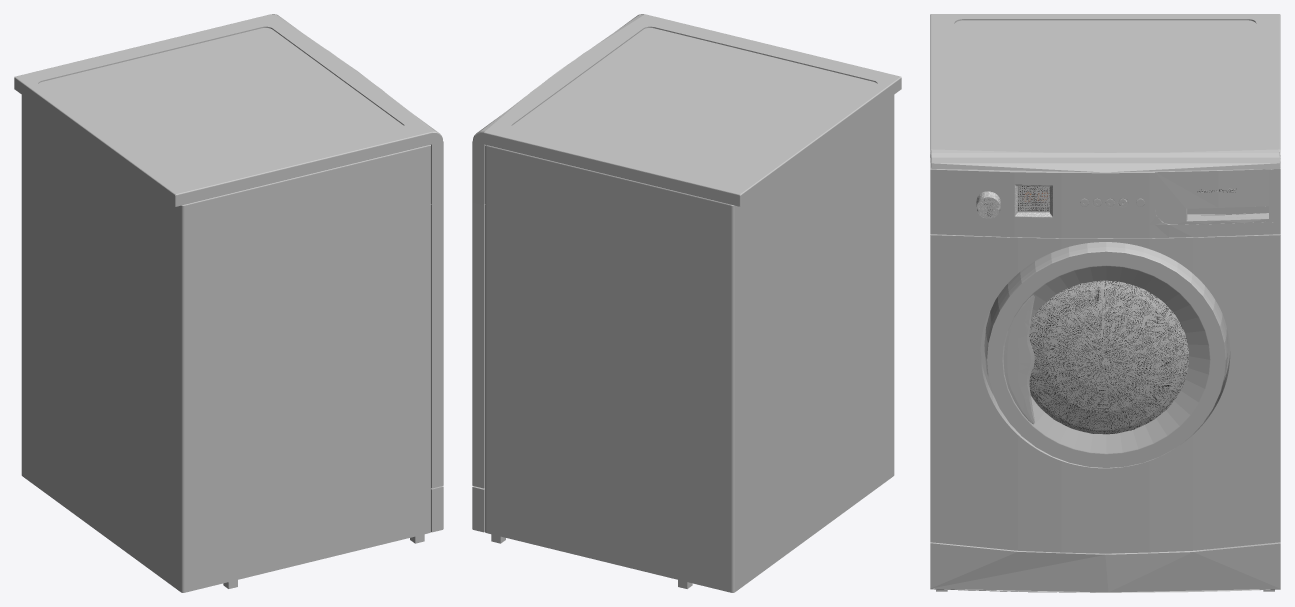
3 views of the same model, side by side, from view 1: azimuth 30°, elevation 25°; view 2: azimuth 150°, elevation 25°; view 3: azimuth 270°, elevation 25° (orthographic). The views are drawn at different scales.
Parts seen in each view (by area): view 1: mesh35.002_mesh35-geometry, mesh21.002_mesh21-geometry, mesh2.002_mesh2-geometry, mesh3.002_mesh3-geometry, mesh36.002_mesh36-geometry; view 2: mesh35.002_mesh35-geometry, mesh21.002_mesh21-geometry, mesh2.002_mesh2-geometry, mesh41.002_mesh41-geometry, mesh36.002_mesh36-geometry; view 3: mesh2.002_mesh2-geometry, mesh21.002_mesh21-geometry, mesh1.002_mesh1-geometry, mesh20.002_mesh20-geometry, mesh3.002_mesh3-geometry, mesh36.002_mesh36-geometry, mesh43.002_mesh43-geometry, mesh41.002_mesh41-geometry, mesh15.002_mesh15-geometry, mesh4.002_mesh4-geometry, mesh12.002_mesh12-geometry, mesh35.002_mesh35-geometry.
Part boxes in pixels (x1,y1,x2,y2): mesh35.002_mesh35-geometry: (21,95,430,592); mesh21.002_mesh21-geometry: (14,14,442,206); mesh2.002_mesh2-geometry: (431,202,443,488); mesh3.002_mesh3-geometry: (430,142,443,204); mesh36.002_mesh36-geometry: (431,486,443,532); mesh35.002_mesh35-geometry: (485,95,894,592); mesh21.002_mesh21-geometry: (473,14,901,206); mesh2.002_mesh2-geometry: (472,202,484,488); mesh41.002_mesh41-geometry: (472,141,484,205); mesh36.002_mesh36-geometry: (472,486,484,532); mesh2.002_mesh2-geometry: (930,234,1280,553); mesh21.002_mesh21-geometry: (930,14,1280,172); mesh1.002_mesh1-geometry: (984,242,1228,467); mesh20.002_mesh20-geometry: (1029,280,1188,434); mesh3.002_mesh3-geometry: (930,169,1280,238); mesh36.002_mesh36-geometry: (930,542,1280,592); mesh43.002_mesh43-geometry: (931,149,1279,172); mesh41.002_mesh41-geometry: (930,168,1280,224); mesh15.002_mesh15-geometry: (1003,295,1034,424); mesh4.002_mesh4-geometry: (1018,186,1049,212); mesh12.002_mesh12-geometry: (976,191,1000,218); mesh35.002_mesh35-geometry: (936,152,1274,591).
Bounding box in the file's own units: 0.515 × 0.6975 × 0.4983.
